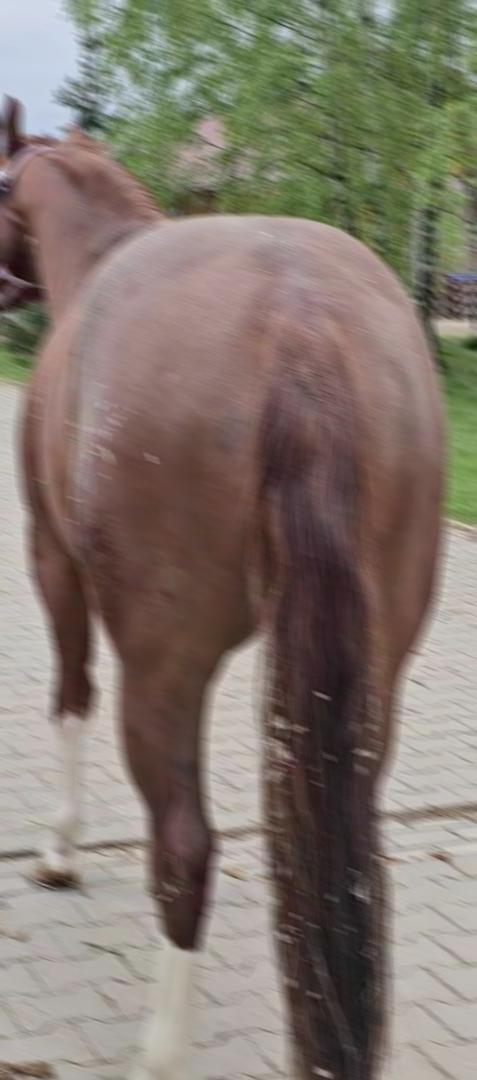horse: (0, 91, 450, 1078)
